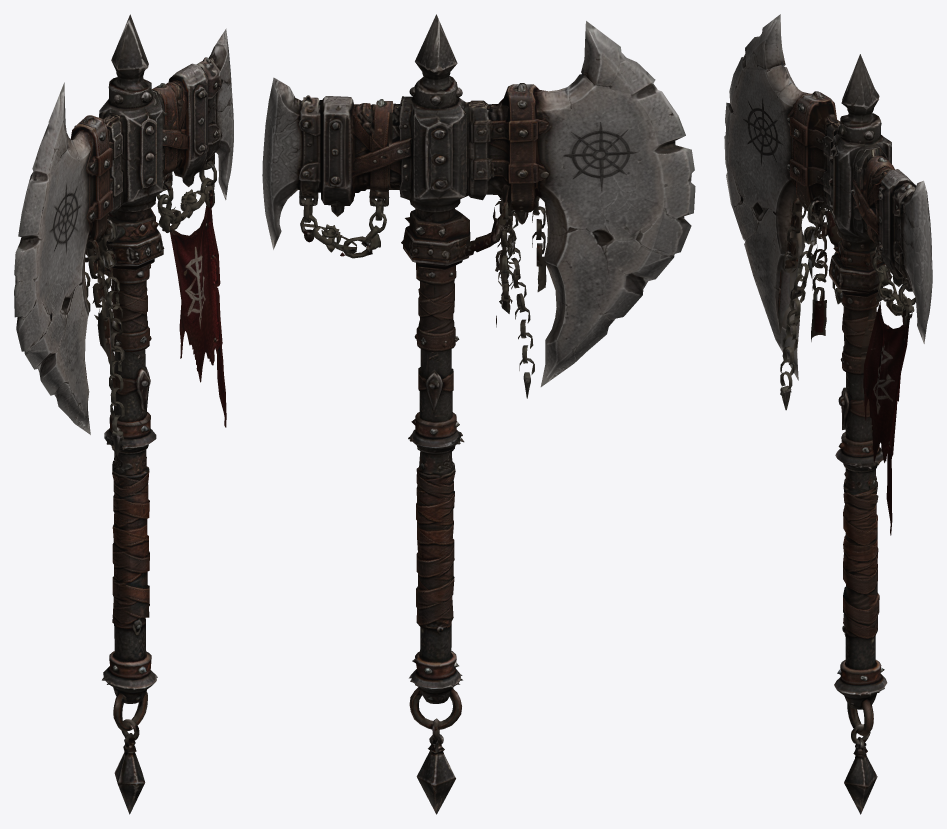
File: weapon 3d model.glb
3 views of the same model, side by side, from view 1: azimuth 30°, elevation 25°; view 2: azimuth 150°, elevation 25°; view 3: azimuth 270°, elevation 25° (orthographic). The views are drawn at different scales.
Visible parts, largest first — view 1: f27641db_260d_4cf2_9d5d_25c5ed293ea9; view 2: f27641db_260d_4cf2_9d5d_25c5ed293ea9; view 3: f27641db_260d_4cf2_9d5d_25c5ed293ea9.
Part boxes in pixels (box(x1,y1,x2,y2)): f27641db_260d_4cf2_9d5d_25c5ed293ea9: box(14, 14, 233, 814); f27641db_260d_4cf2_9d5d_25c5ed293ea9: box(262, 14, 695, 814); f27641db_260d_4cf2_9d5d_25c5ed293ea9: box(724, 14, 932, 814).
Size of the model in its own units: 0.4253 by 0.9995 by 0.2476.
1 material, 1 textured.
